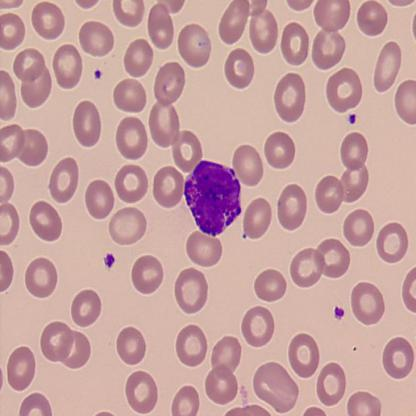Basophil: (181, 157, 244, 240)
